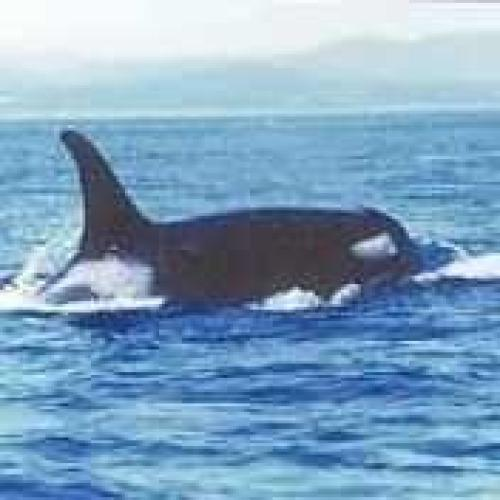killer_whale-endangered: (27, 109, 437, 348)
